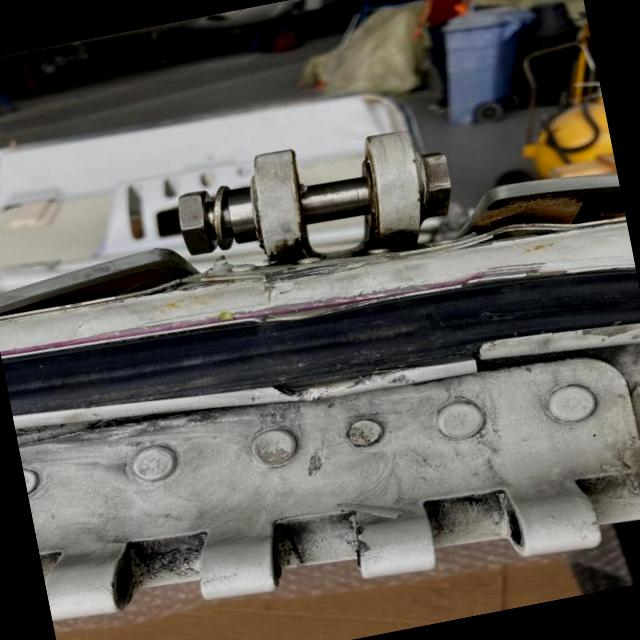dent: (264, 353, 418, 417), (238, 280, 401, 336), (122, 268, 240, 312), (449, 220, 578, 259)
